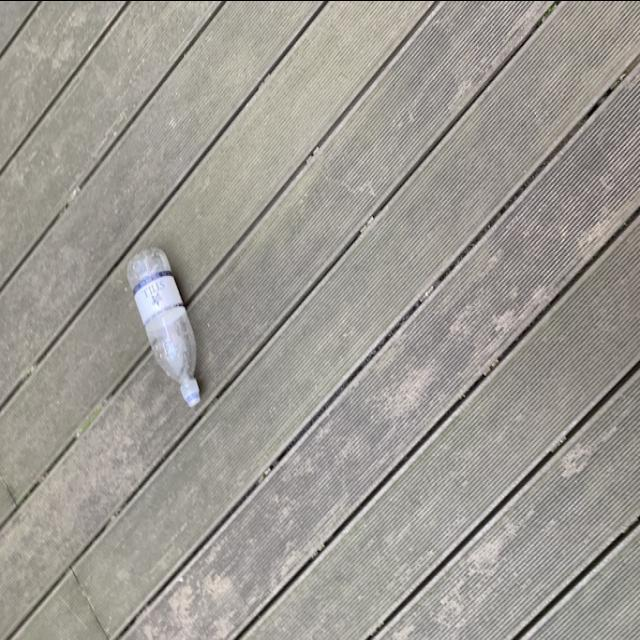PET: (126, 244, 206, 415)
